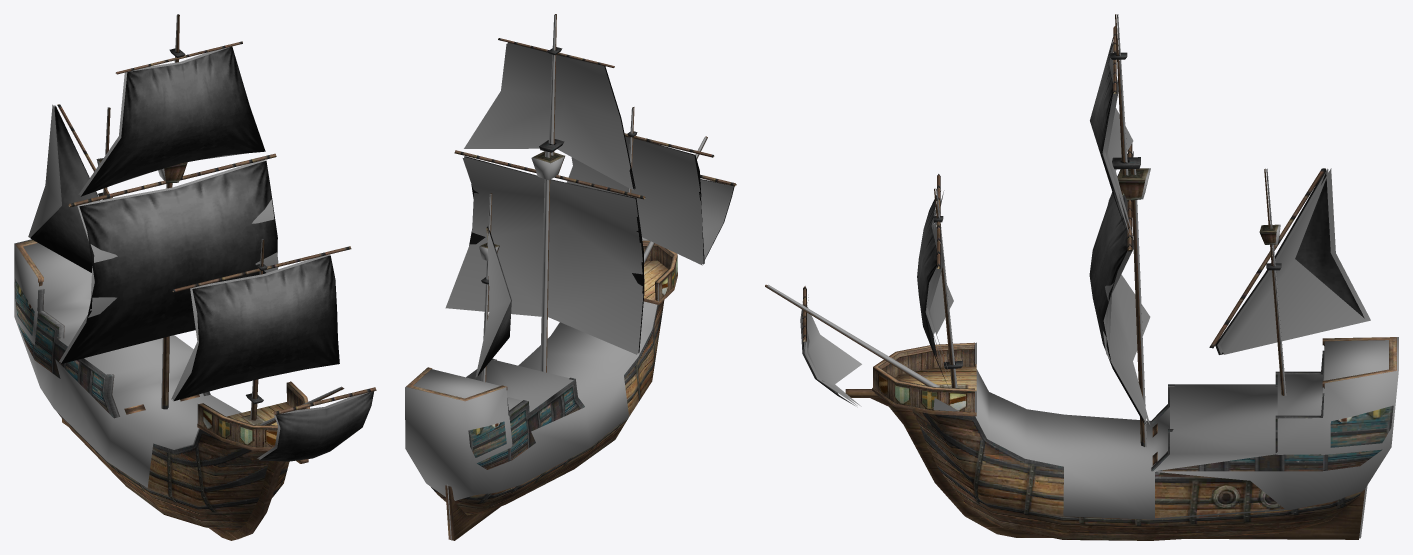
File: F_Monster_024_m.fbx
3 renders of one model, left to right at view 1: azimuth 30°, elevation 25°; view 2: azimuth 150°, elevation 25°; view 3: azimuth 270°, elevation 25°, orthographic. The views are drawn at different scales.
Visible parts, largest first — view 1: F_Ship_Sail, F_Ship_FakeShadow, F_Ship; view 2: F_Ship_FakeShadow, F_Ship, F_Ship_Sail; view 3: F_Ship_FakeShadow, F_Ship, F_Ship_Sail.
Boxes of the visible parts, <box> form: F_Ship_Sail: <box>30,46,374,461</box>; F_Ship_FakeShadow: <box>14,14,368,487</box>; F_Ship: <box>14,14,376,540</box>; F_Ship_FakeShadow: <box>405,14,733,540</box>; F_Ship: <box>406,14,736,540</box>; F_Ship_Sail: <box>464,43,734,375</box>; F_Ship_FakeShadow: <box>767,14,1398,538</box>; F_Ship: <box>765,14,1396,540</box>; F_Ship_Sail: <box>800,37,1364,424</box>.
Bounding box in the file's own units: 0.3732 × 0.8365 × 0.9176.
